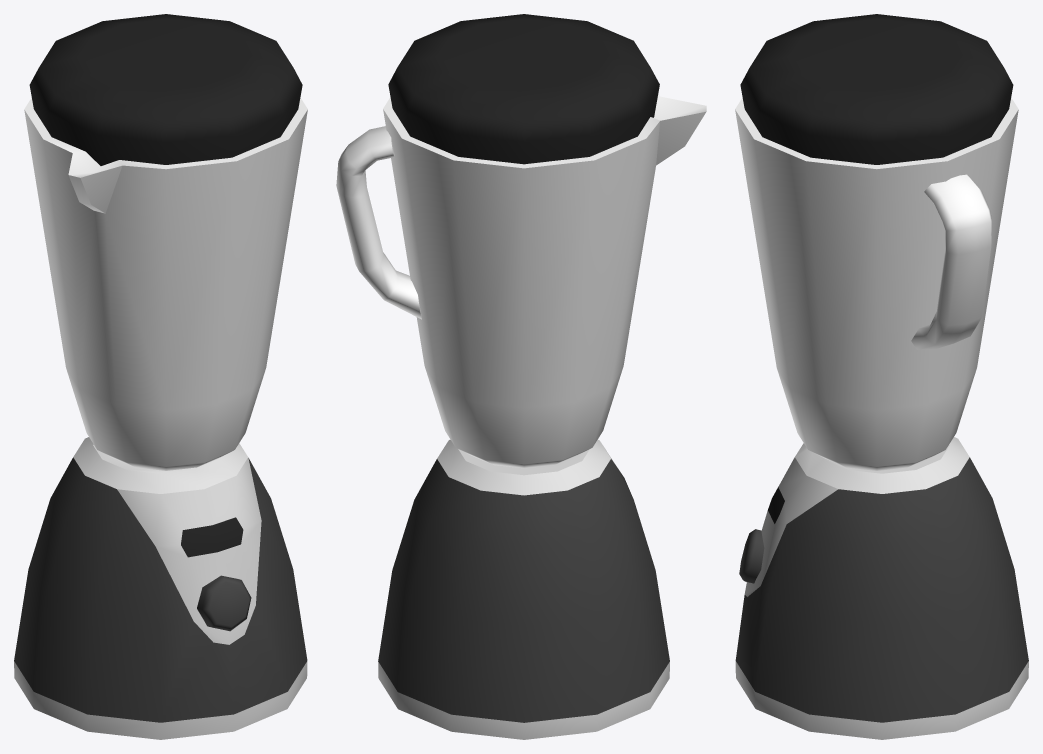
The model's file is electronics_011.fbx.
3 renders of one model, left to right at view 1: azimuth 30°, elevation 25°; view 2: azimuth 150°, elevation 25°; view 3: azimuth 270°, elevation 25°, orthographic.
Visible parts, largest first — view 1: electronics_011; view 2: electronics_011; view 3: electronics_011.
Boxes of the visible parts, x1,y1,x2,y2 form: electronics_011: (14, 14, 307, 739); electronics_011: (336, 14, 706, 739); electronics_011: (735, 14, 1028, 739).
Size of the model in its own units: 39.29 by 35.1 by 82.26.
